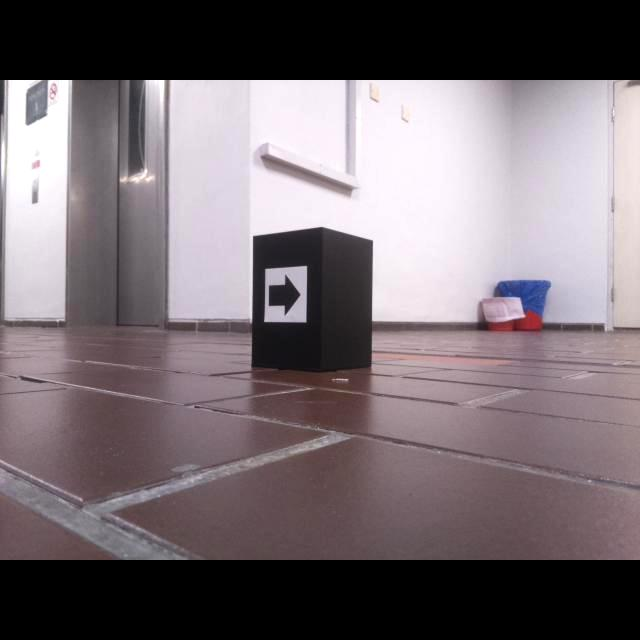RIGHT: (268, 275, 301, 315)
